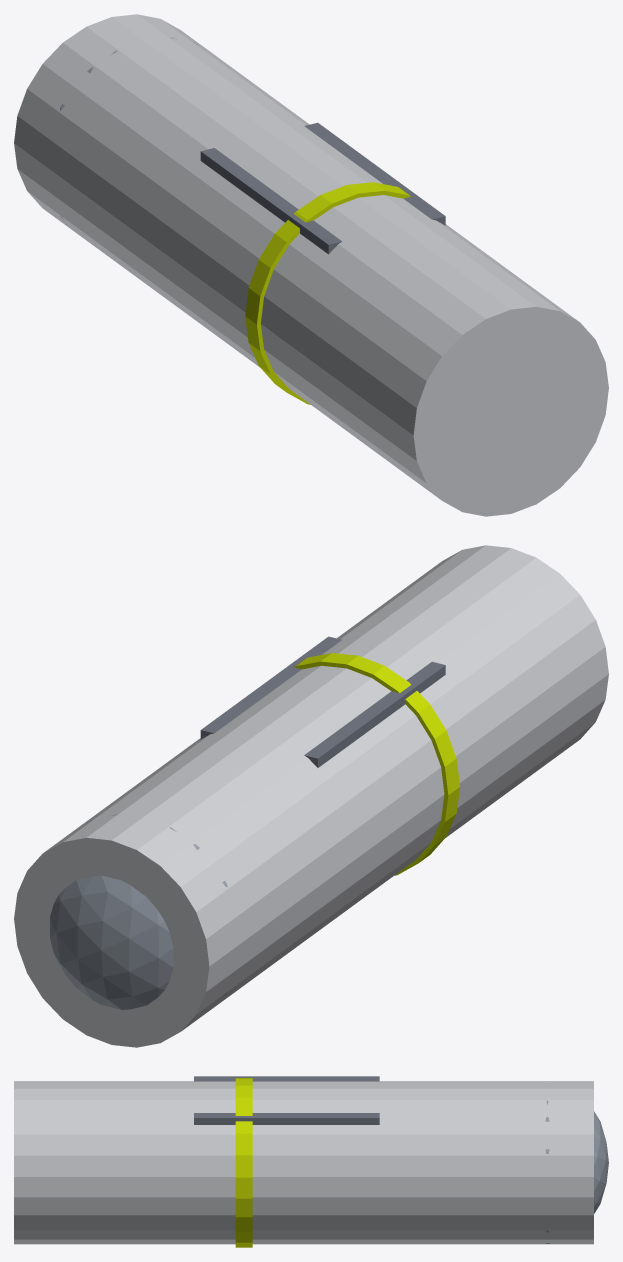
The model's file is tanque_grande.glb.
3 views of the same model, one above another, from view 1: azimuth 30°, elevation 25°; view 2: azimuth 150°, elevation 25°; view 3: azimuth 270°, elevation 25° (orthographic). The views are drawn at different scales.
Parts seen in each view (by area): view 1: tanque_grande_cuerpo, tanque_grande_panel, tanque_grande_banda_lima; view 2: tanque_grande_cuerpo, tanque_grande_nariz, tanque_grande_panel, tanque_grande_banda_lima; view 3: tanque_grande_cuerpo, tanque_grande_panel, tanque_grande_banda_lima, tanque_grande_nariz.
Boxes of the visible parts, bbox=[...] form: tanque_grande_cuerpo: bbox=[14, 14, 608, 516]; tanque_grande_panel: bbox=[200, 122, 445, 254]; tanque_grande_banda_lima: bbox=[245, 182, 410, 404]; tanque_grande_cuerpo: bbox=[14, 545, 608, 1047]; tanque_grande_nariz: bbox=[50, 814, 227, 1009]; tanque_grande_panel: bbox=[200, 636, 445, 767]; tanque_grande_banda_lima: bbox=[294, 653, 459, 875]; tanque_grande_cuerpo: bbox=[14, 1081, 593, 1244]; tanque_grande_panel: bbox=[194, 1076, 379, 1124]; tanque_grande_banda_lima: bbox=[235, 1078, 252, 1247]; tanque_grande_nariz: bbox=[545, 1081, 608, 1243].
Size of the model in its own units: 0.9984 by 0.9984 by 3.49.
